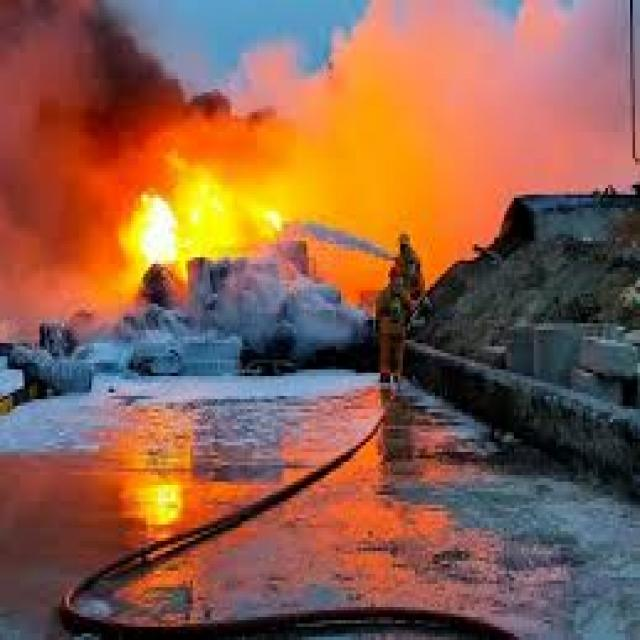fire: (111, 185, 180, 274)
smoke: (257, 6, 640, 228), (2, 3, 257, 175)
